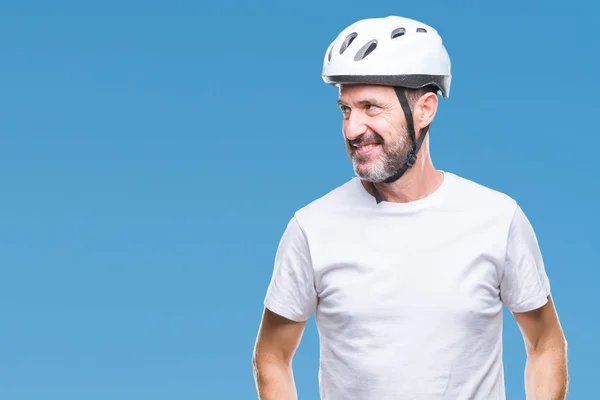helmet: (320, 15, 452, 184)
